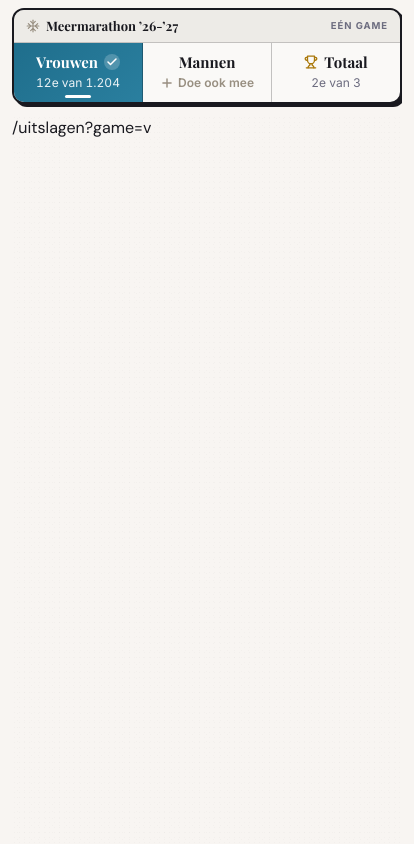
pelotonbalk met data › zet bij de uitslagen het totaal erbij, met jouw plek
This screenshot has width=414, height=844.
Click the button "Totaal 2e van 3": [336, 72] box top-left (272, 42), bottom-right (400, 102)
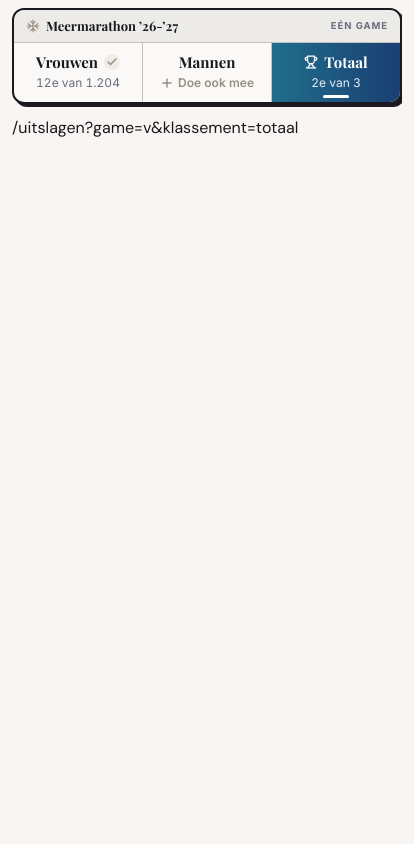
expect the text with test id "adres" reads "/uitslagen?game=v&klassement=totaal": met, box top-left (12, 117), bottom-right (298, 138)
